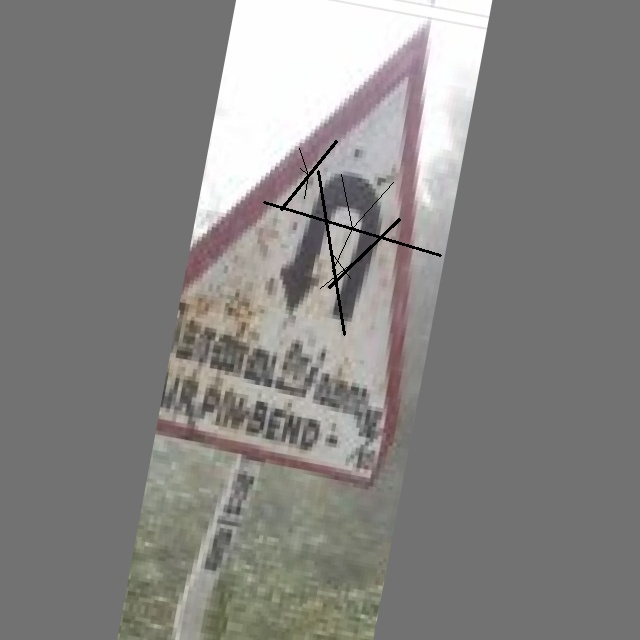Left_Hair_Pin_Bend: (240, 124, 443, 354)
